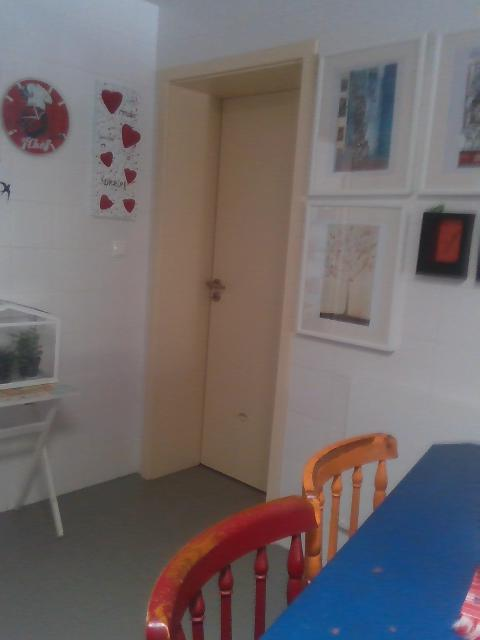door: (199, 89, 295, 494)
